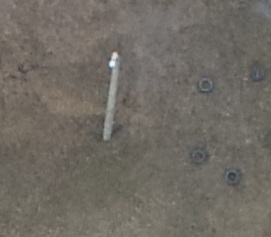opora: (103, 51, 124, 142)
